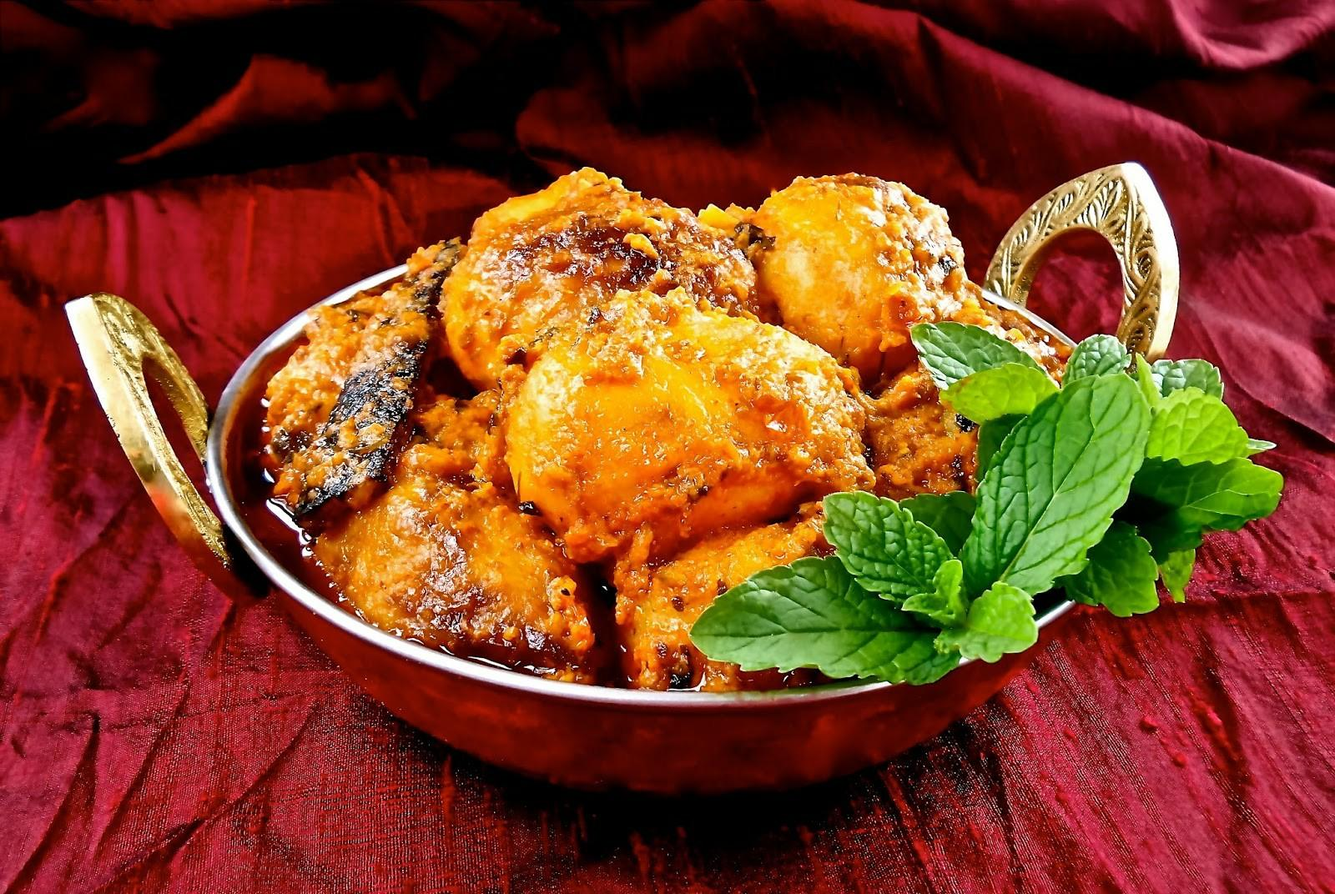DumAloo: (229, 166, 1285, 684)
